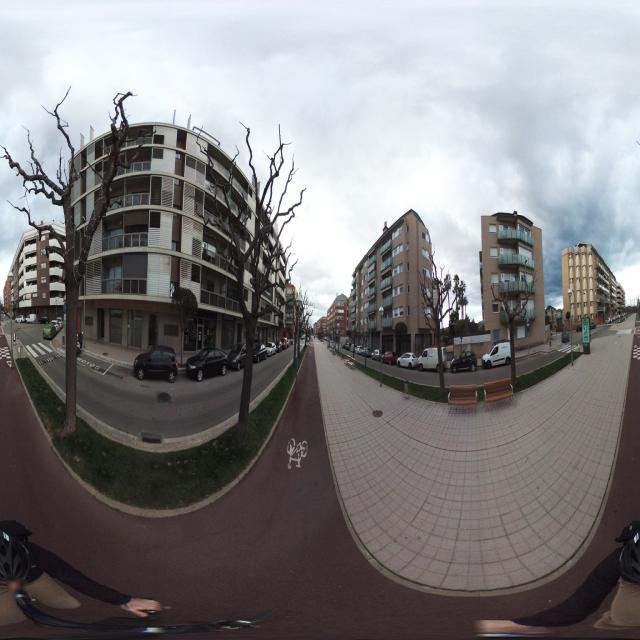forb_stopping: (527, 326, 530, 333)
